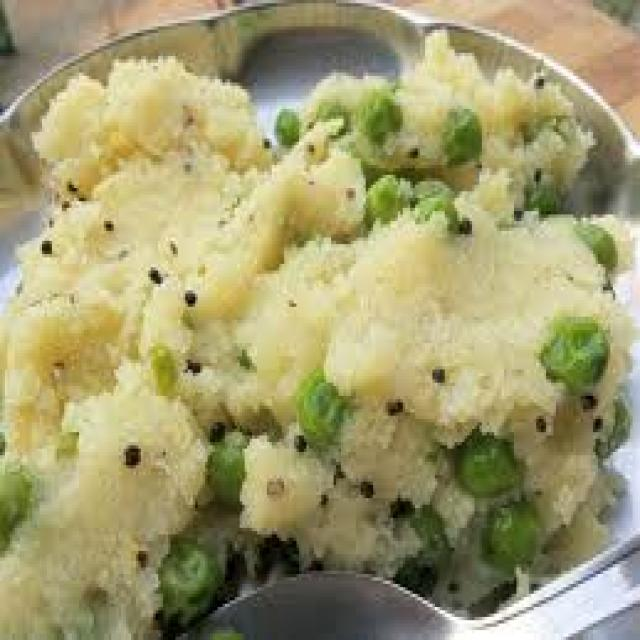UPMA: (0, 33, 633, 604)
